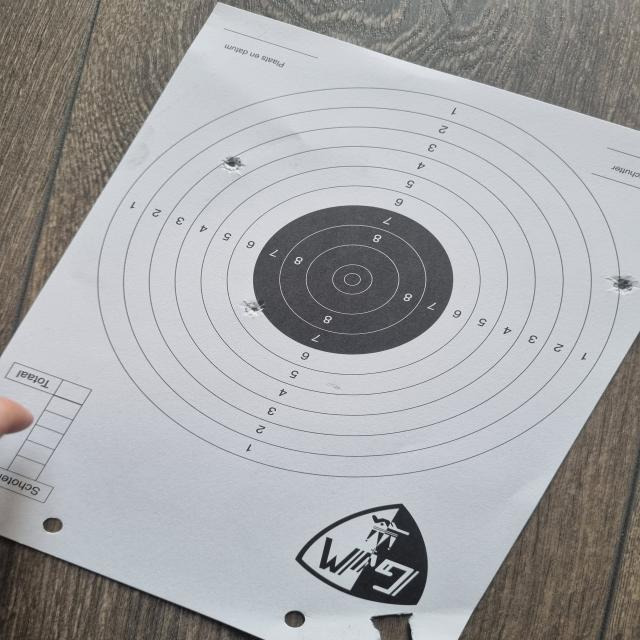1: (607, 274, 638, 292)
4: (220, 156, 247, 172)
8: (242, 300, 266, 316)
Black Contour: (254, 204, 454, 356)
Target: (99, 87, 622, 478)
